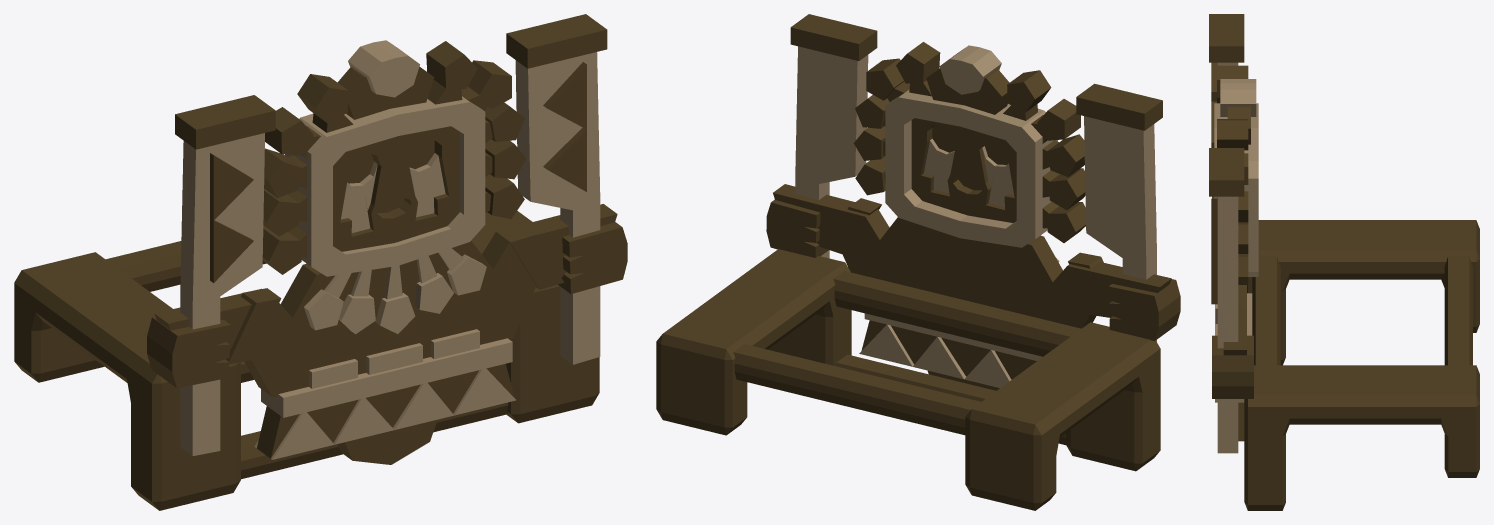
The model's file is LightWoodWallLargeAztecMotif1.fbx.
The picture shows the model from 3 angles, left to right: view 1: azimuth 30°, elevation 25°; view 2: azimuth 150°, elevation 25°; view 3: azimuth 270°, elevation 25°; orthographic projection. The views are drawn at different scales.
Visible parts, largest first — view 1: LightWoodWallLargeAztecMotif1; view 2: LightWoodWallLargeAztecMotif1; view 3: LightWoodWallLargeAztecMotif1.
Boxes of the visible parts, box(x1,y1,x2,y2) form: LightWoodWallLargeAztecMotif1: box(14, 14, 627, 510); LightWoodWallLargeAztecMotif1: box(656, 14, 1180, 510); LightWoodWallLargeAztecMotif1: box(1209, 14, 1479, 510).
Size of the model in its own units: 1026 by 886 by 638.
